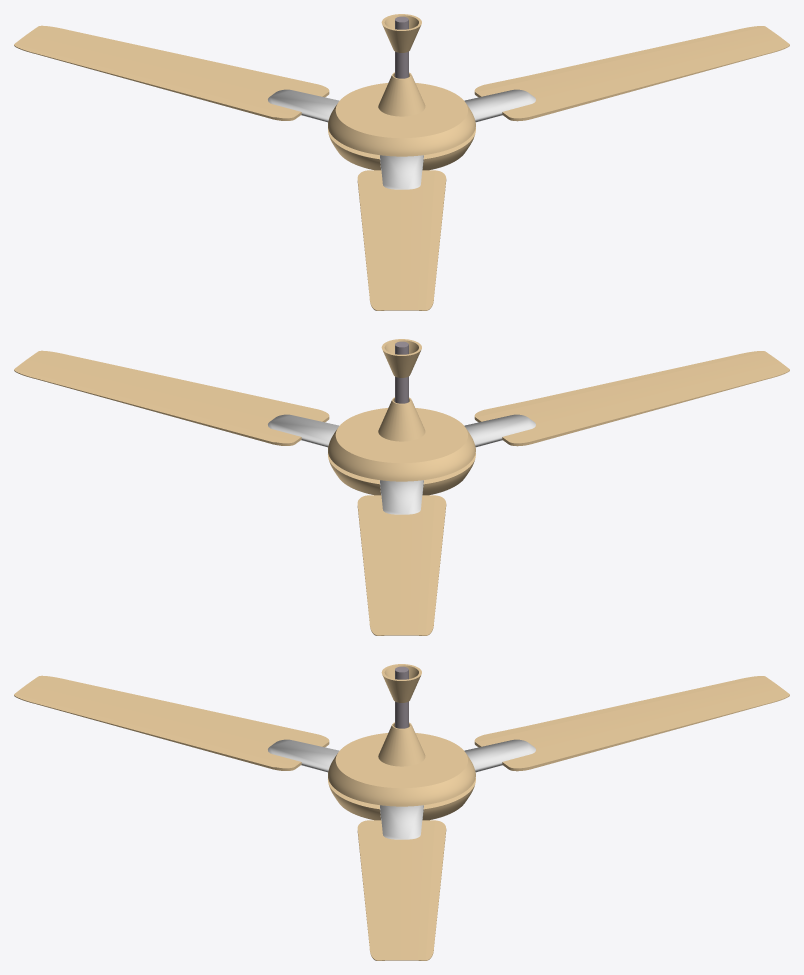
File: fanLight.fbx
3 views of the same model, one above another, from view 1: azimuth 30°, elevation 25°; view 2: azimuth 150°, elevation 25°; view 3: azimuth 270°, elevation 25° (orthographic).
Parts seen in each view (by area): view 1: Cube.004, Cube, Cube.002, Cylinder, Cylinder.002, Cube.003, Cube.001, Cube.005, Cylinder.003, Cylinder.001; view 2: Cube, Cube.002, Cube.004, Cylinder, Cylinder.002, Cube.005, Cube.003, Cube.001, Cylinder.003, Cylinder.001; view 3: Cube.002, Cube.004, Cube, Cylinder, Cylinder.002, Cube.001, Cube.003, Cube.005, Cylinder.003, Cylinder.001.
Part boxes in pixels (box(x1,y1,x2,y2)): Cube.004: box(14, 25, 329, 120); Cube: box(474, 26, 789, 121); Cube.002: box(357, 170, 446, 310); Cylinder: box(328, 83, 475, 170); Cylinder.002: box(378, 72, 425, 116); Cube.003: box(379, 155, 423, 189); Cube.001: box(464, 89, 535, 122); Cube.005: box(268, 89, 339, 122); Cylinder.003: box(381, 14, 421, 52); Cylinder.001: box(395, 16, 408, 78); Cube: box(14, 350, 329, 445); Cube.002: box(474, 351, 789, 446); Cube.004: box(357, 495, 446, 635); Cylinder: box(328, 408, 475, 495); Cylinder.002: box(378, 397, 425, 441); Cube.005: box(379, 480, 423, 514); Cube.003: box(464, 414, 535, 447); Cube.001: box(268, 414, 339, 447); Cylinder.003: box(381, 339, 421, 377); Cylinder.001: box(395, 341, 408, 403); Cube.002: box(14, 675, 329, 770); Cube.004: box(474, 676, 789, 771); Cube: box(357, 820, 446, 960); Cylinder: box(328, 733, 475, 820); Cylinder.002: box(378, 722, 425, 766); Cube.001: box(379, 805, 423, 839); Cube.003: box(268, 739, 339, 772); Cube.005: box(464, 739, 535, 772); Cylinder.003: box(381, 664, 421, 702); Cylinder.001: box(395, 666, 408, 728).
Bounding box in the file's own units: 1037 × 222 × 1195.
